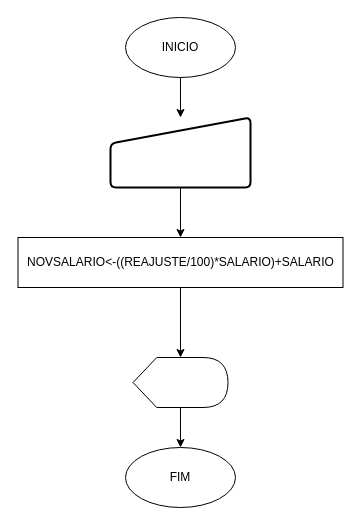
The diagram is 360 pixels wide and 525 high, and some of its shapes have lost their labels. The shapes that lost their labels are listed below. From the top down, each one's box as (x1, y1, x2, y2) in pixels, then its label:
(109, 116, 251, 188): SALARIO, REAJUSTE
(132, 356, 228, 408): NOVSALARIO
